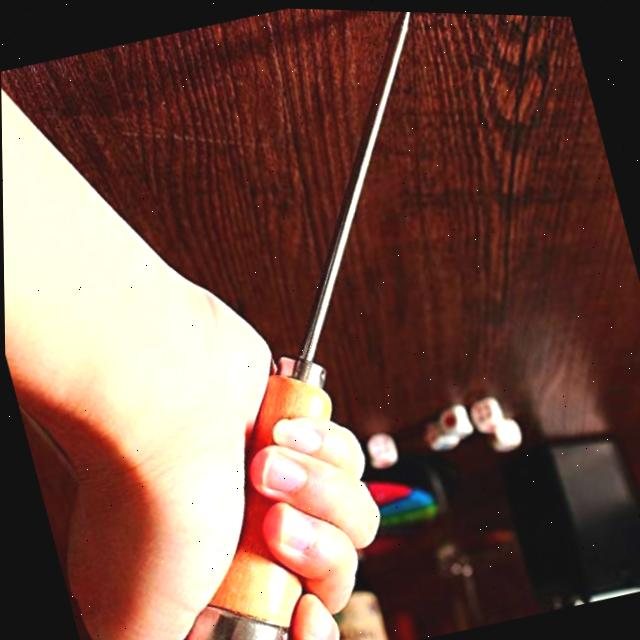ice pick: (33, 1, 570, 640)
